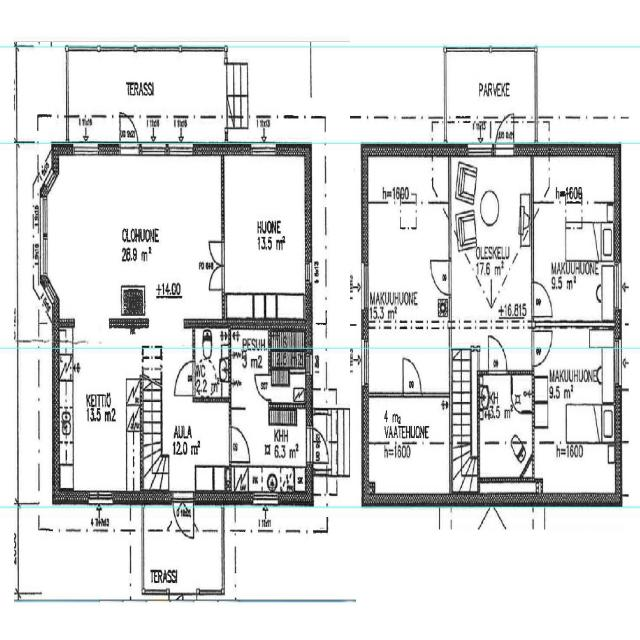door: (173, 492, 193, 544), (495, 109, 514, 157), (305, 427, 331, 462), (120, 106, 138, 154), (488, 332, 508, 375), (429, 259, 452, 295), (229, 426, 250, 462), (532, 331, 553, 366), (403, 360, 421, 398), (175, 362, 195, 396), (532, 283, 552, 316), (256, 374, 271, 400), (209, 241, 224, 266), (209, 266, 224, 290)
